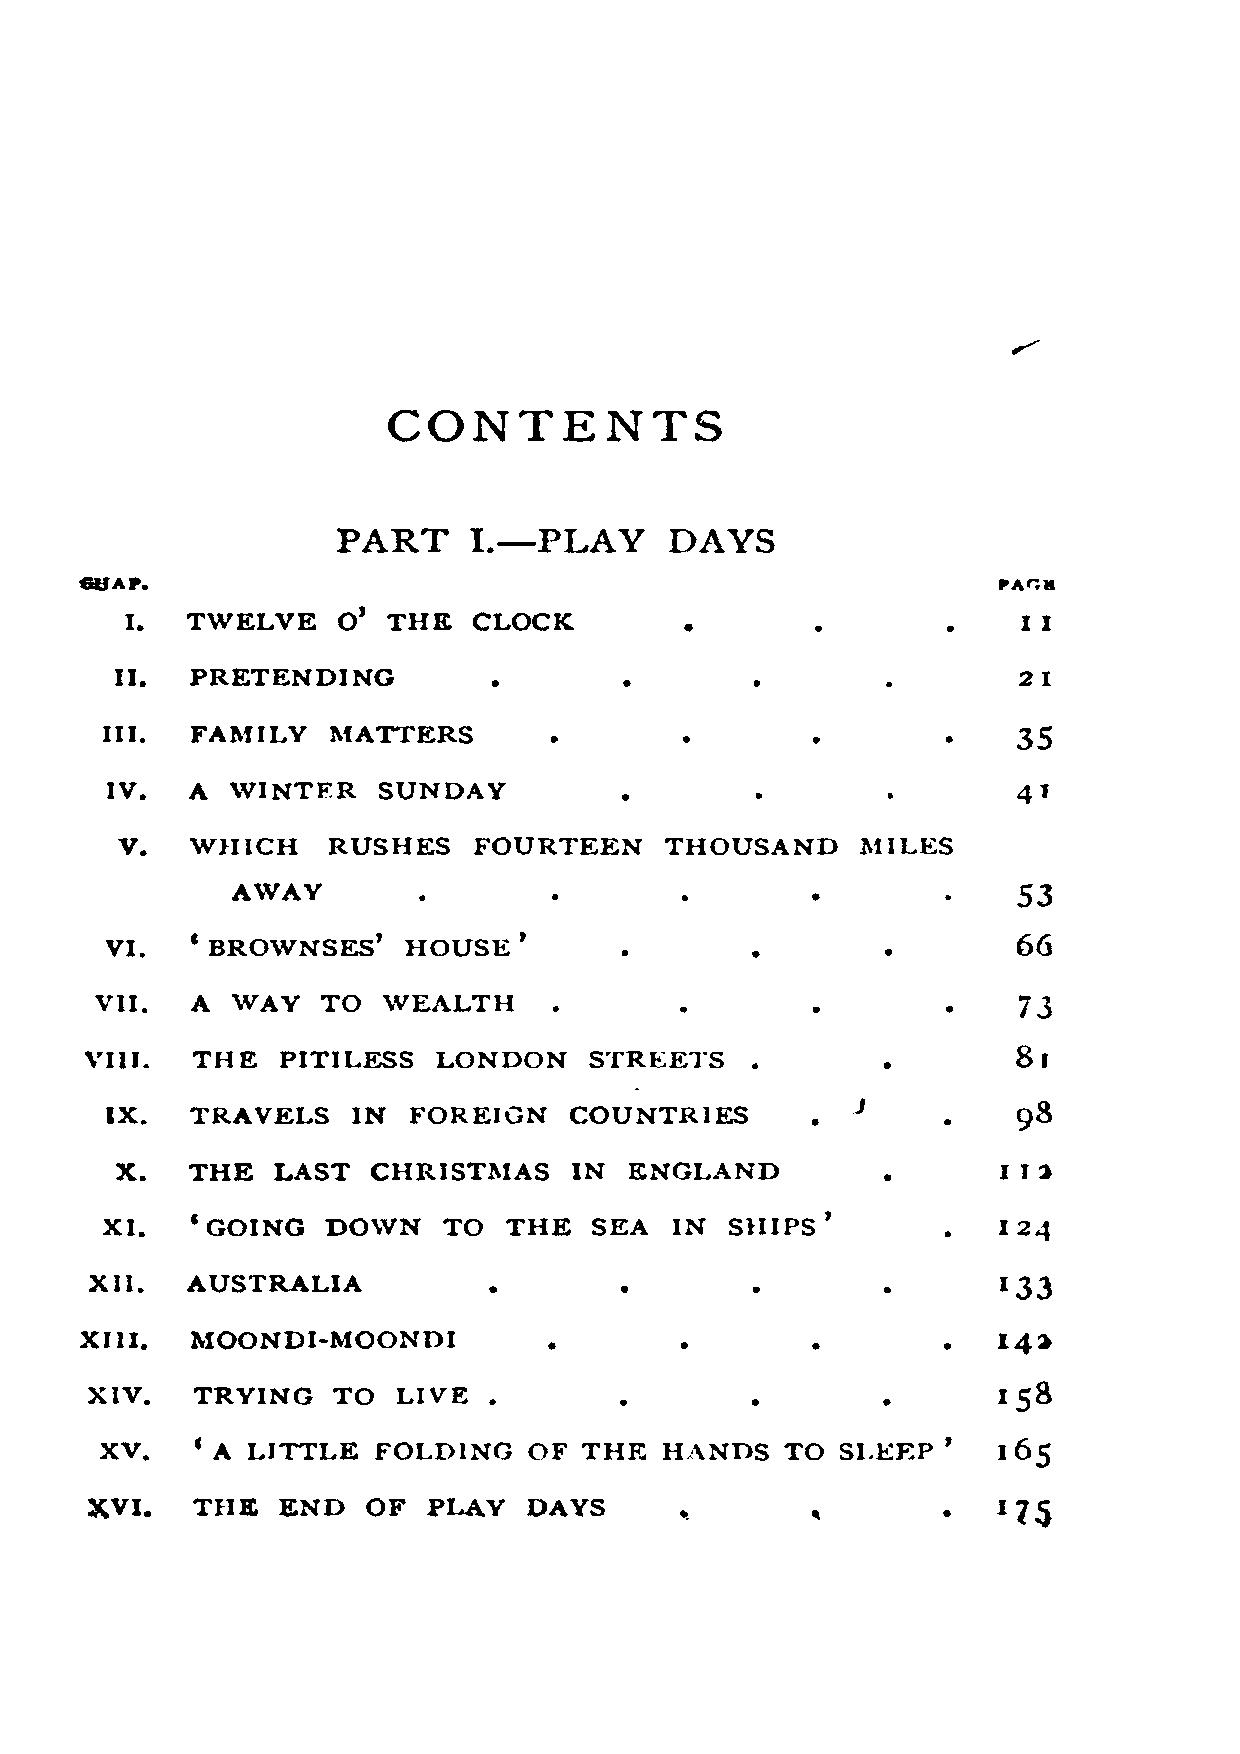TOC_chapter: (118, 829, 955, 900), (95, 1210, 836, 1239), (97, 1437, 955, 1461), (103, 1099, 752, 1127), (113, 1157, 780, 1184), (81, 1045, 727, 1072), (331, 518, 778, 556), (111, 604, 576, 633), (81, 1494, 611, 1518), (102, 930, 527, 960), (91, 986, 517, 1016), (103, 774, 509, 804), (93, 717, 478, 747), (72, 1325, 462, 1353), (79, 1381, 471, 1406), (111, 662, 393, 690), (87, 1268, 364, 1294), (78, 577, 154, 593)
TOC_pagenumber: (994, 1492, 1052, 1529), (994, 1210, 1053, 1245), (996, 1435, 1053, 1468), (990, 1329, 1060, 1355), (997, 1271, 1052, 1304), (997, 1381, 1055, 1412), (1013, 1098, 1056, 1131), (1015, 988, 1051, 1025), (1016, 1041, 1052, 1078), (1012, 930, 1055, 960), (1013, 774, 1053, 805), (1015, 880, 1053, 910), (1016, 722, 1052, 750), (1016, 607, 1057, 631), (993, 1164, 1053, 1180), (1016, 662, 1049, 688)
chapter: (382, 403, 726, 444)
